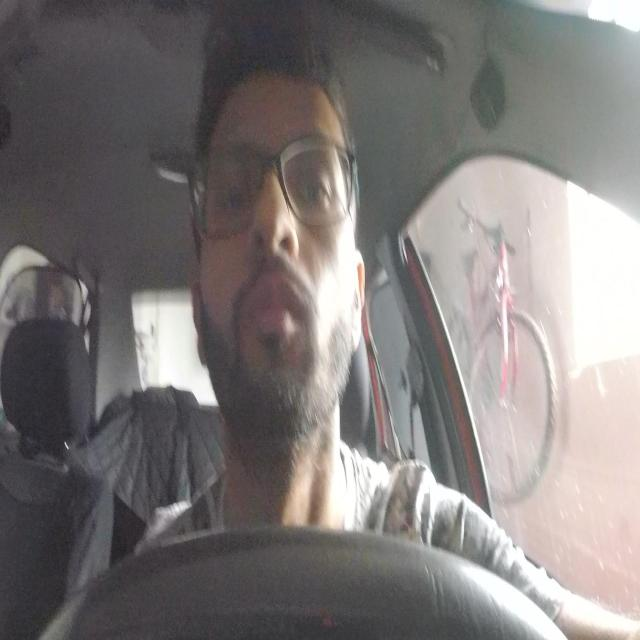open: (285, 130, 346, 238)
